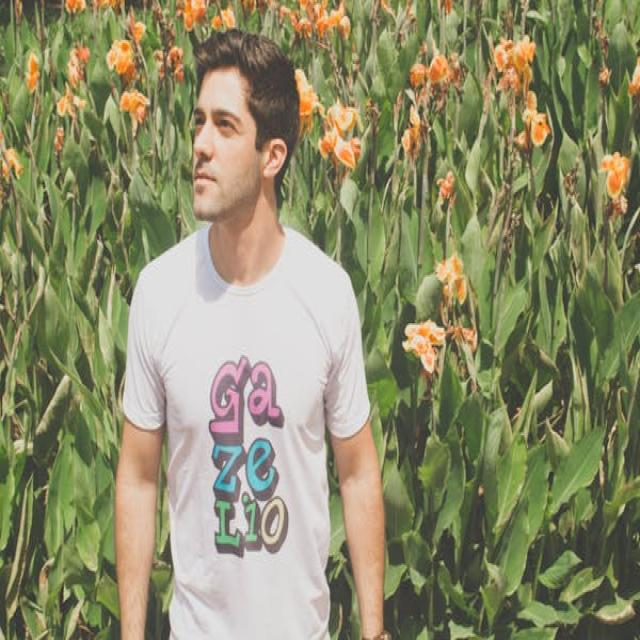Real human 2: (104, 27, 408, 640)
